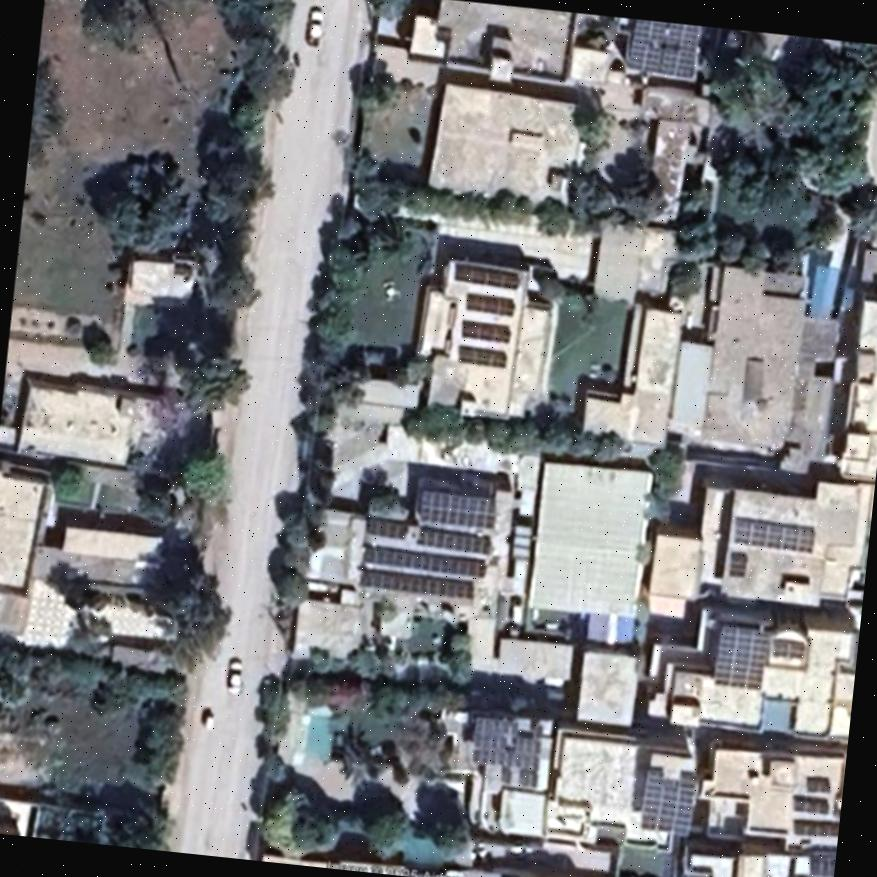Solarpanel: (624, 19, 700, 77), (636, 769, 698, 835), (363, 545, 486, 576), (715, 626, 772, 687), (473, 719, 541, 769), (361, 569, 470, 596), (733, 515, 814, 548), (421, 491, 494, 522), (418, 528, 489, 553), (453, 263, 518, 289), (458, 344, 509, 365), (458, 321, 508, 341), (364, 515, 407, 537), (467, 294, 514, 314), (806, 850, 835, 877)
